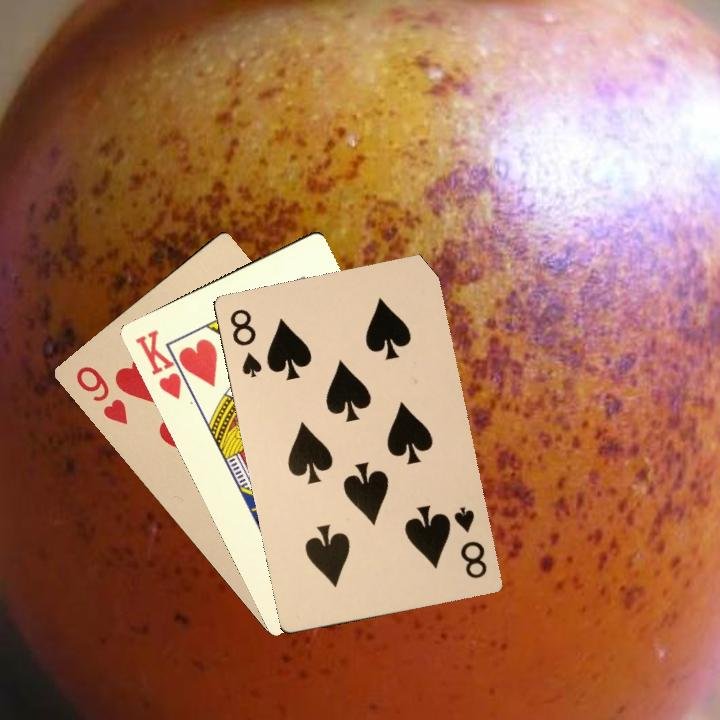8s: (450, 502, 490, 581), (225, 305, 264, 380)
9h: (71, 362, 131, 427)
Kh: (131, 325, 195, 402)
